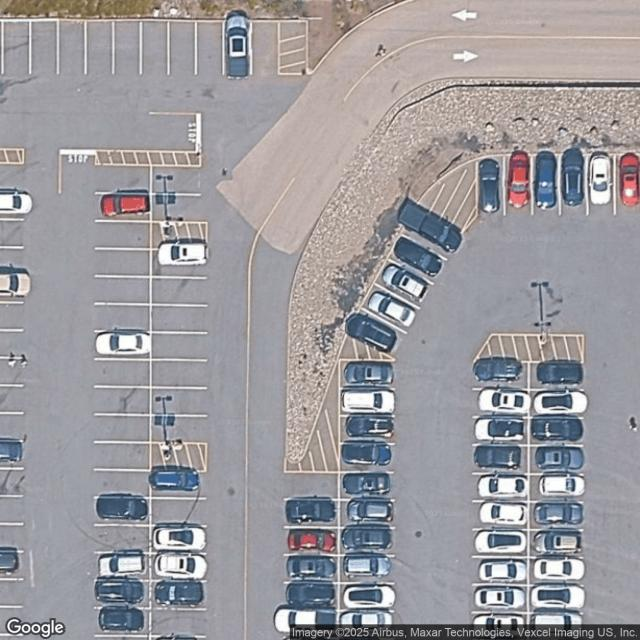car: (394, 197, 467, 255), (388, 230, 458, 286), (344, 308, 408, 361), (339, 611, 403, 637), (274, 606, 333, 633), (95, 493, 148, 521), (374, 296, 415, 332), (225, 17, 249, 77), (533, 389, 588, 415), (156, 553, 207, 581), (152, 524, 206, 550), (148, 466, 202, 492), (533, 416, 583, 444), (94, 331, 150, 356), (154, 579, 205, 606), (285, 496, 334, 524), (284, 580, 334, 607), (94, 578, 145, 604), (158, 240, 209, 266), (477, 388, 530, 413), (97, 550, 146, 577), (562, 147, 584, 206), (507, 152, 530, 208), (474, 416, 525, 441), (473, 357, 524, 382), (476, 530, 526, 555), (341, 441, 391, 466), (100, 192, 150, 217), (342, 389, 394, 413), (98, 606, 146, 632), (343, 530, 390, 556), (478, 159, 501, 212), (535, 584, 585, 608), (344, 584, 394, 608), (474, 444, 524, 468), (533, 529, 583, 553), (536, 151, 557, 208), (535, 361, 584, 385), (286, 554, 334, 578), (342, 472, 390, 496), (478, 501, 528, 524), (344, 362, 394, 385), (534, 502, 583, 525), (478, 474, 527, 497), (345, 415, 394, 438), (538, 446, 584, 470), (346, 498, 392, 522), (589, 154, 611, 204), (345, 556, 390, 580), (540, 475, 583, 499), (392, 270, 427, 299), (538, 560, 584, 582), (480, 561, 524, 584), (288, 529, 332, 552), (0, 267, 31, 297), (620, 154, 638, 205), (477, 589, 516, 611), (474, 613, 526, 628), (0, 191, 32, 215), (532, 612, 582, 627), (1, 436, 27, 464), (0, 546, 20, 573), (152, 632, 200, 640)
